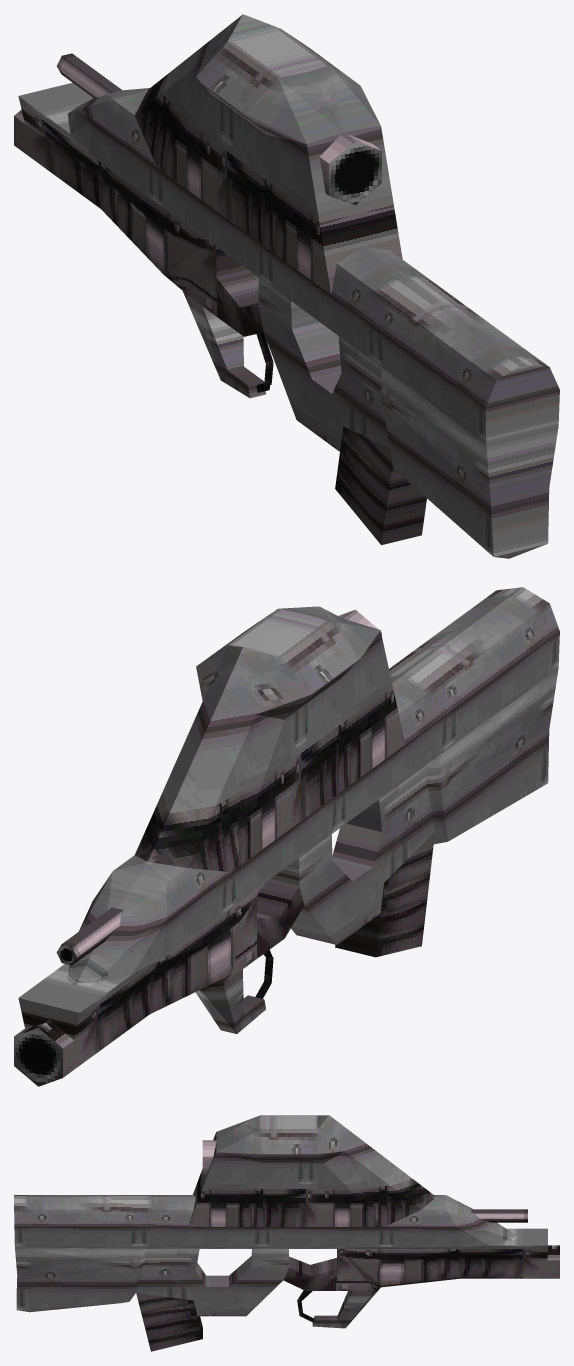
The model's file is recovered_gun_bmmg_f2k_0c9b9692.glb.
The picture shows the model from 3 angles, top to bottom: view 1: azimuth 30°, elevation 25°; view 2: azimuth 150°, elevation 25°; view 3: azimuth 270°, elevation 25°; orthographic projection. The views are drawn at different scales.
Visible parts, largest first — view 1: Gun_36d8415c3174, Gun_379f7b5fa02f; view 2: Gun_36d8415c3174, Gun_379f7b5fa02f; view 3: Gun_36d8415c3174.
Part boxes in pixels (bbox=[...]): Gun_36d8415c3174: bbox=[14, 14, 559, 558]; Gun_379f7b5fa02f: bbox=[329, 141, 381, 205]; Gun_36d8415c3174: bbox=[15, 587, 559, 1077]; Gun_379f7b5fa02f: bbox=[14, 944, 76, 1086]; Gun_36d8415c3174: bbox=[14, 1115, 559, 1351].
Size of the model in its own units: 0.0907 by 0.3084 by 0.6608.
Materials: 2 (2 with a texture image).
